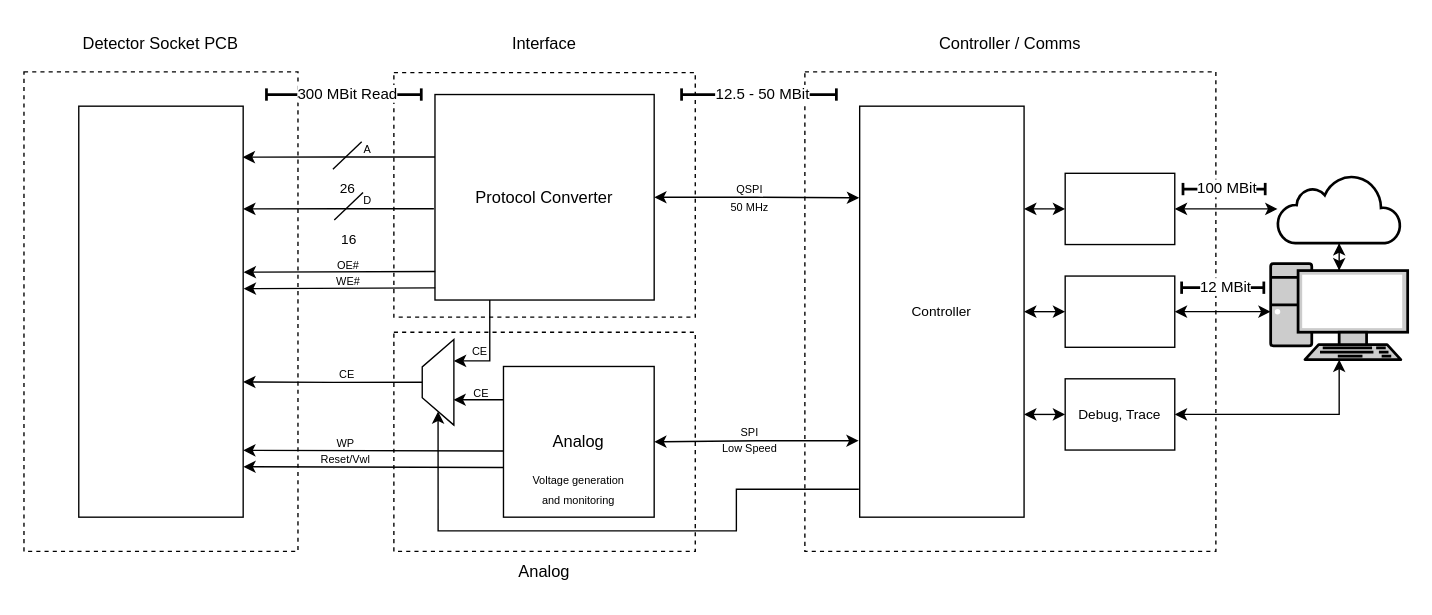
The diagram is 1432 pixels wide and 615 high, and some of its shapes have lost their labels. Here are the shapes that lost their labels. From the top down, the centre of each, then its label:
pixel 1119 208: Ethernet
pixel 160 311: Detector
pixel 1119 311: USB
